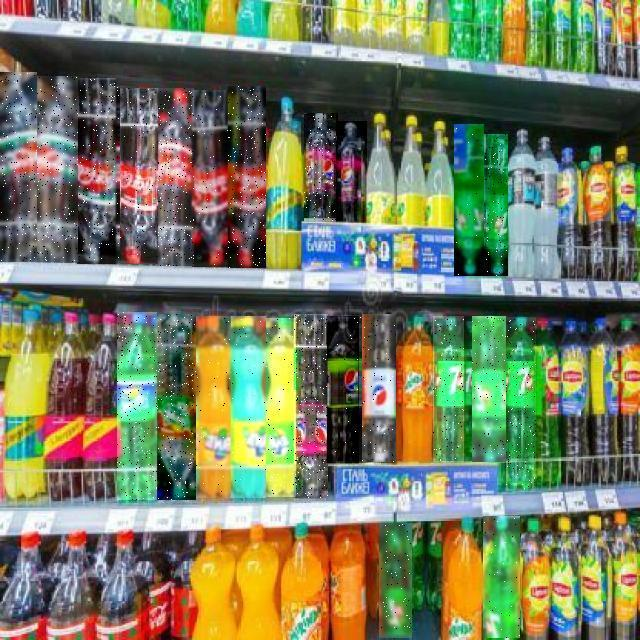Drinks: (78, 79, 120, 265), (37, 76, 79, 262), (117, 312, 157, 500), (156, 314, 196, 500), (0, 72, 37, 262), (228, 86, 266, 268), (192, 90, 230, 267), (120, 88, 158, 264), (157, 88, 194, 266), (196, 316, 232, 498), (231, 316, 266, 498), (295, 314, 329, 498), (266, 318, 296, 497), (506, 317, 536, 491), (328, 316, 362, 464), (362, 315, 396, 463), (472, 316, 506, 462), (454, 124, 484, 276), (433, 316, 464, 462), (483, 517, 520, 639), (379, 524, 412, 640), (304, 114, 338, 222), (484, 135, 508, 277), (336, 121, 367, 222)
